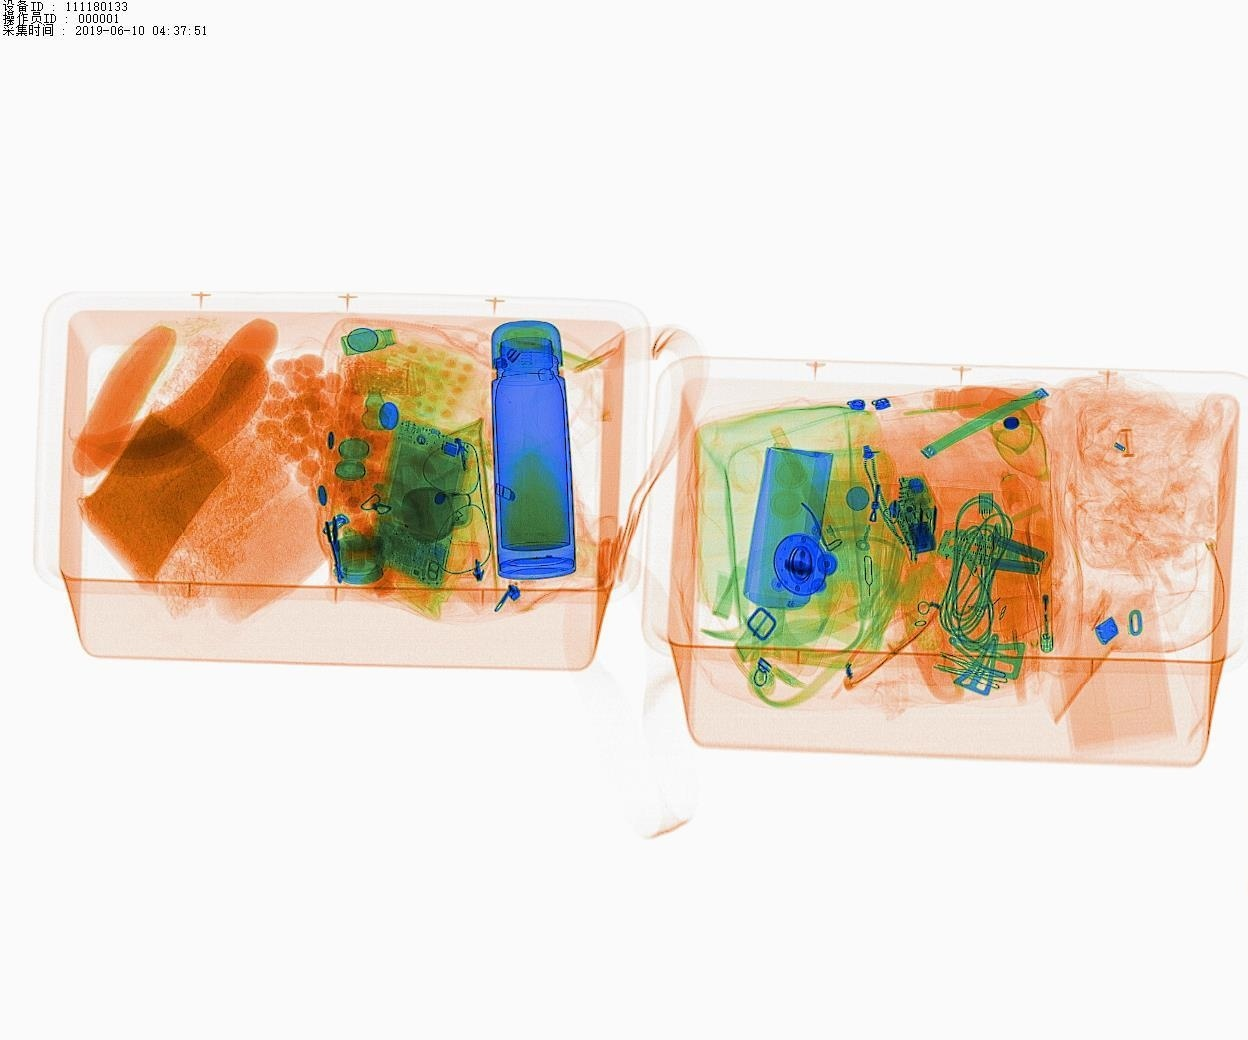NonmetallicFire: (1026, 543, 1065, 658)
